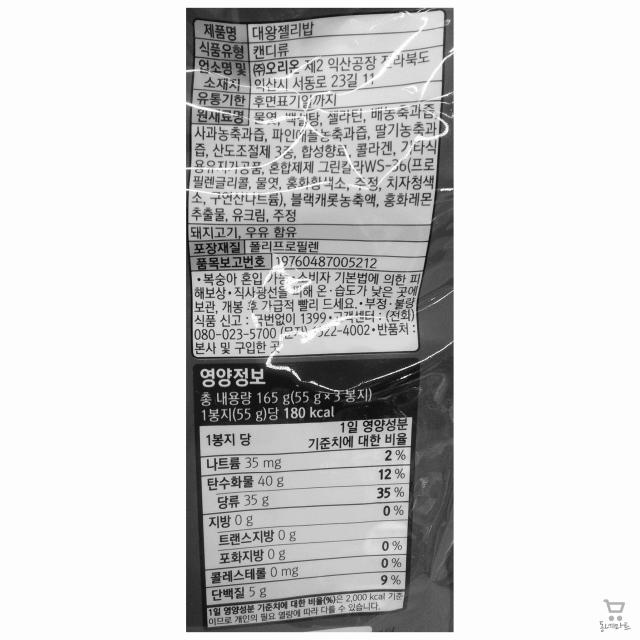Nutrition Label: (192, 359, 414, 633)
